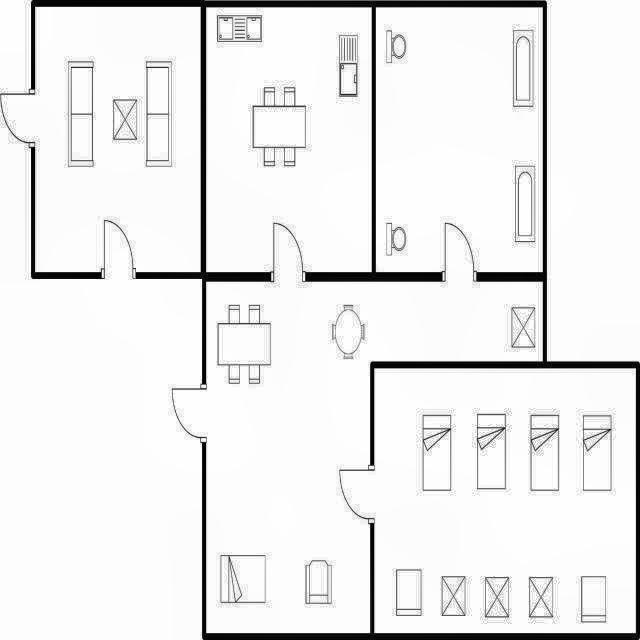room: (206, 282, 543, 634), (373, 368, 636, 634), (375, 7, 543, 271), (35, 7, 202, 272), (206, 8, 372, 272)
